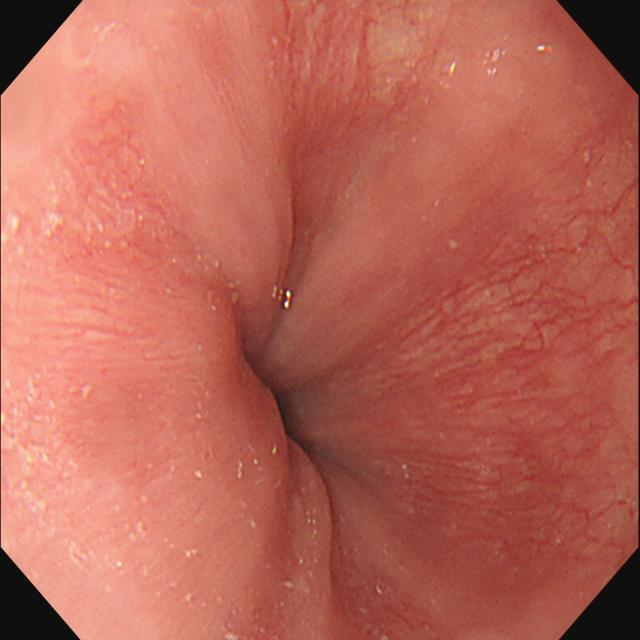I: (154, 206, 447, 581)
